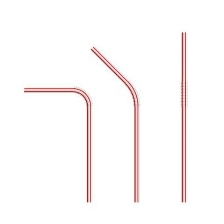drinking_straw: (85, 42, 154, 204), (20, 82, 99, 205), (171, 26, 195, 206)
